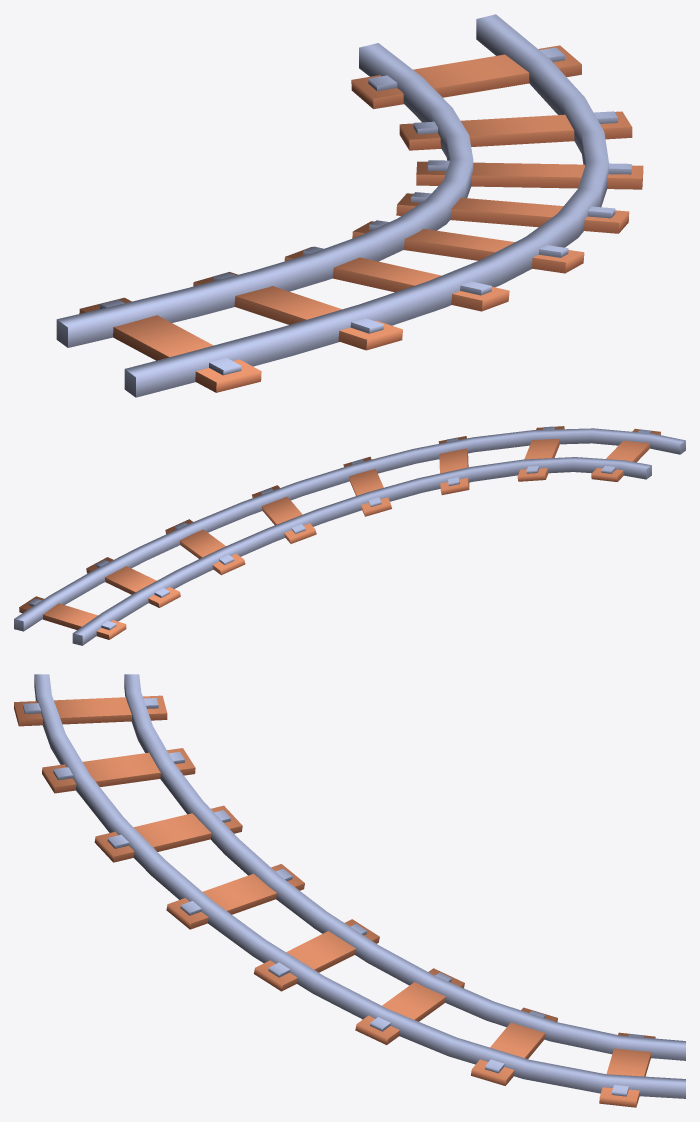
Rendered from kenney-train-railroad-corner-large-ramp.glb.
The picture shows the model from 3 angles, top to bottom: view 1: azimuth 30°, elevation 25°; view 2: azimuth 150°, elevation 25°; view 3: azimuth 270°, elevation 25°; orthographic projection. The views are drawn at different scales.
Parts seen in each view (by area): view 1: railroad-corner-large-ramp; view 2: railroad-corner-large-ramp; view 3: railroad-corner-large-ramp.
Boxes of the visible parts, x1,y1,x2,y2 form: railroad-corner-large-ramp: (56, 14, 643, 397); railroad-corner-large-ramp: (14, 426, 685, 645); railroad-corner-large-ramp: (14, 674, 685, 1107).
Bounding box in the file's own units: 4.49 × 1.1 × 4.49.
Materials: 1 (1 with a texture image).
